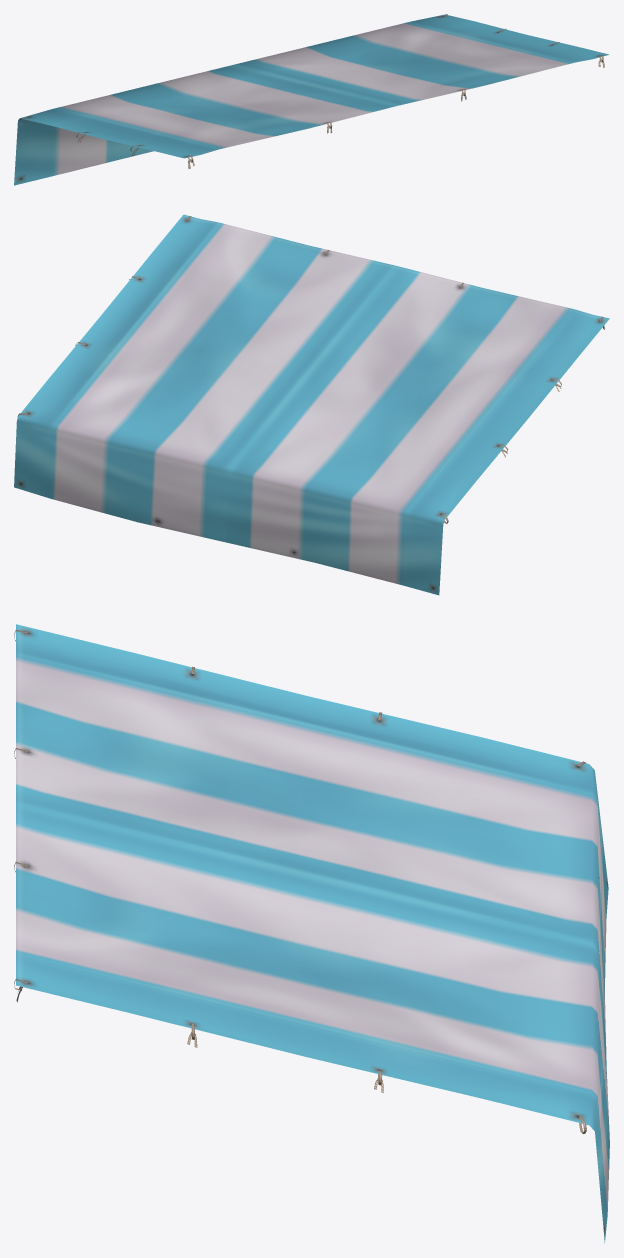
Rendered from jsf_Ceiling_s03_c02_t01.fbx.
3 renders of one model, top to bottom at view 1: azimuth 30°, elevation 25°; view 2: azimuth 150°, elevation 25°; view 3: azimuth 270°, elevation 25°, orthographic. The views are drawn at different scales.
Visible parts, largest first — view 1: jsf_Ceiling_s03_c02_t01; view 2: jsf_Ceiling_s03_c02_t01; view 3: jsf_Ceiling_s03_c02_t01.
Boxes of the visible parts, bbox=[...] form: jsf_Ceiling_s03_c02_t01: bbox=[14, 14, 609, 185]; jsf_Ceiling_s03_c02_t01: bbox=[14, 214, 609, 595]; jsf_Ceiling_s03_c02_t01: bbox=[14, 624, 609, 1243].
Size of the model in its own units: 315 by 106 by 216.
